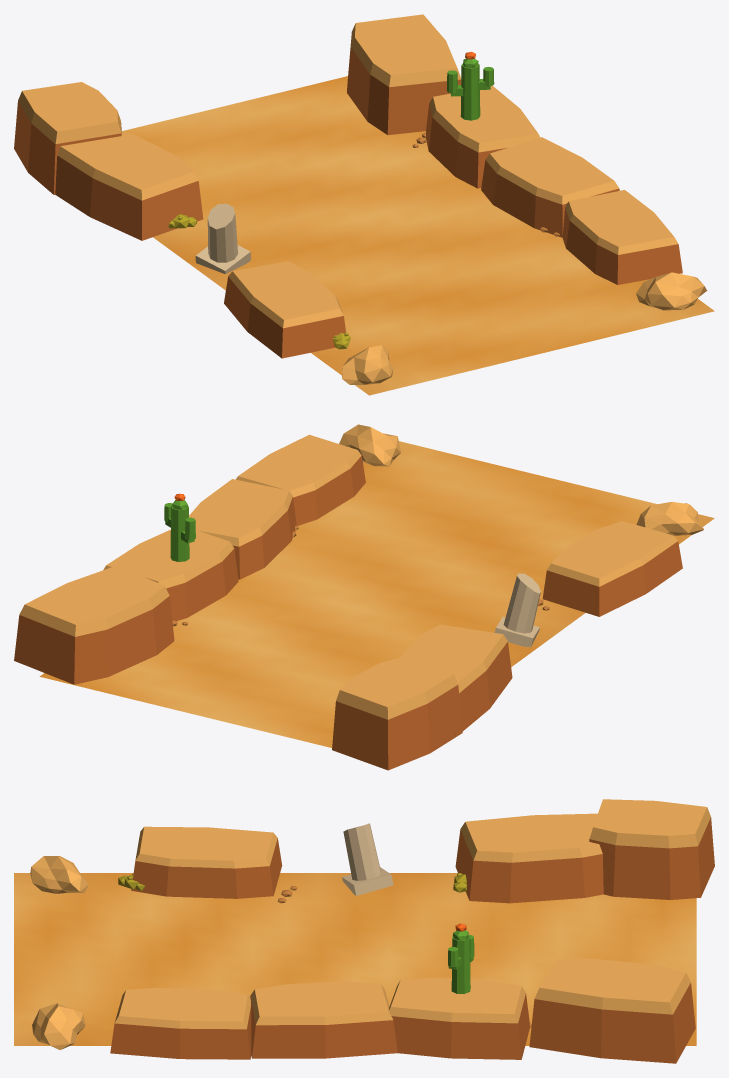
The model's file is field-desert.glb.
3 renders of one model, top to bottom at view 1: azimuth 30°, elevation 25°; view 2: azimuth 150°, elevation 25°; view 3: azimuth 270°, elevation 25°, orthographic. The views are drawn at different scales.
Parts seen in each view (by area): view 1: Desert_Ground, Desert_Bank_L2, Desert_Bank_R4, Desert_Bank_L1, Desert_Bank_R1, Desert_Bank_R2, Desert_Bank_L3, Desert_Bank_R3, Desert_Col_L, Desert_Rock_BR, Desert_Cactus_R, Desert_Rock_BL; view 2: Desert_Ground, Desert_Bank_R4, Desert_Bank_L3, Desert_Bank_L1, Desert_Bank_R2, Desert_Bank_R1, Desert_Bank_R3, Desert_Bank_L2, Desert_Col_L, Desert_Rock_BL, Desert_Rock_BR, Desert_Cactus_R; view 3: Desert_Ground, Desert_Bank_R4, Desert_Bank_L2, Desert_Bank_L3, Desert_Bank_R2, Desert_Bank_R3, Desert_Bank_L1, Desert_Bank_R1, Desert_Col_L, Desert_Rock_BR, Desert_Rock_BL, Desert_Cactus_R.
Boxes of the visible parts, x1,y1,x2,y2 form: Desert_Ground: (122, 76, 714, 395); Desert_Bank_L2: (47, 131, 203, 240); Desert_Bank_R4: (347, 14, 461, 134); Desert_Bank_L1: (224, 261, 345, 358); Desert_Bank_R1: (562, 190, 682, 284); Desert_Bank_R2: (481, 137, 619, 237); Desert_Bank_L3: (14, 82, 121, 194); Desert_Bank_R3: (426, 86, 540, 188); Desert_Col_L: (195, 203, 250, 274); Desert_Rock_BR: (636, 272, 707, 310); Desert_Cactus_R: (447, 51, 494, 120); Desert_Rock_BL: (342, 345, 393, 384); Desert_Ground: (39, 441, 714, 747); Desert_Bank_R4: (14, 565, 174, 684); Desert_Bank_L3: (332, 657, 462, 770); Desert_Bank_L1: (542, 521, 682, 616); Desert_Bank_R2: (189, 479, 296, 579); Desert_Bank_R1: (236, 434, 365, 525); Desert_Bank_R3: (103, 529, 238, 621); Desert_Bank_L2: (400, 624, 512, 737); Desert_Col_L: (494, 573, 540, 647); Desert_Rock_BL: (636, 502, 703, 535); Desert_Rock_BR: (339, 424, 400, 466); Desert_Cactus_R: (164, 493, 195, 561); Desert_Ground: (14, 873, 696, 1045); Desert_Bank_R4: (529, 958, 695, 1063); Desert_Bank_L2: (455, 813, 603, 903); Desert_Bank_L3: (589, 799, 714, 899); Desert_Bank_R2: (250, 981, 397, 1058); Desert_Bank_R3: (388, 977, 529, 1059); Desert_Bank_L1: (131, 826, 282, 898); Desert_Bank_R1: (110, 987, 251, 1059); Desert_Col_L: (342, 823, 393, 895); Desert_Rock_BR: (32, 1003, 85, 1049); Desert_Rock_BL: (30, 856, 88, 893); Desert_Cactus_R: (448, 923, 474, 993).
Bounding box in the file's own units: 14.31 × 3.72 × 20.54.
